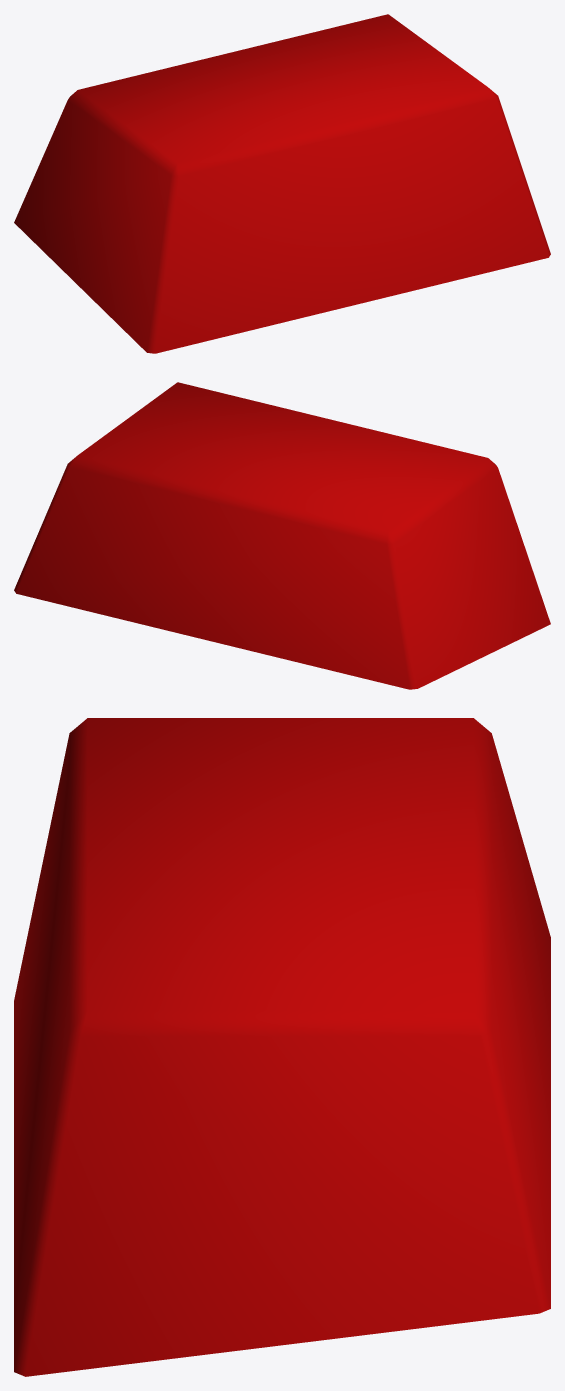
Rendered from capsLock.fbx.
3 renders of one model, top to bottom at view 1: azimuth 30°, elevation 25°; view 2: azimuth 150°, elevation 25°; view 3: azimuth 270°, elevation 25°, orthographic. The views are drawn at different scales.
Parts seen in each view (by area): view 1: Empty_Mesh; view 2: Empty_Mesh; view 3: Empty_Mesh.
Part boxes in pixels (x1,y1,x2,y2): Empty_Mesh: [14, 14, 550, 353]; Empty_Mesh: [14, 382, 550, 689]; Empty_Mesh: [14, 718, 550, 1376].
Bounding box in the file's own units: 3.12 × 1.23 × 1.86.
